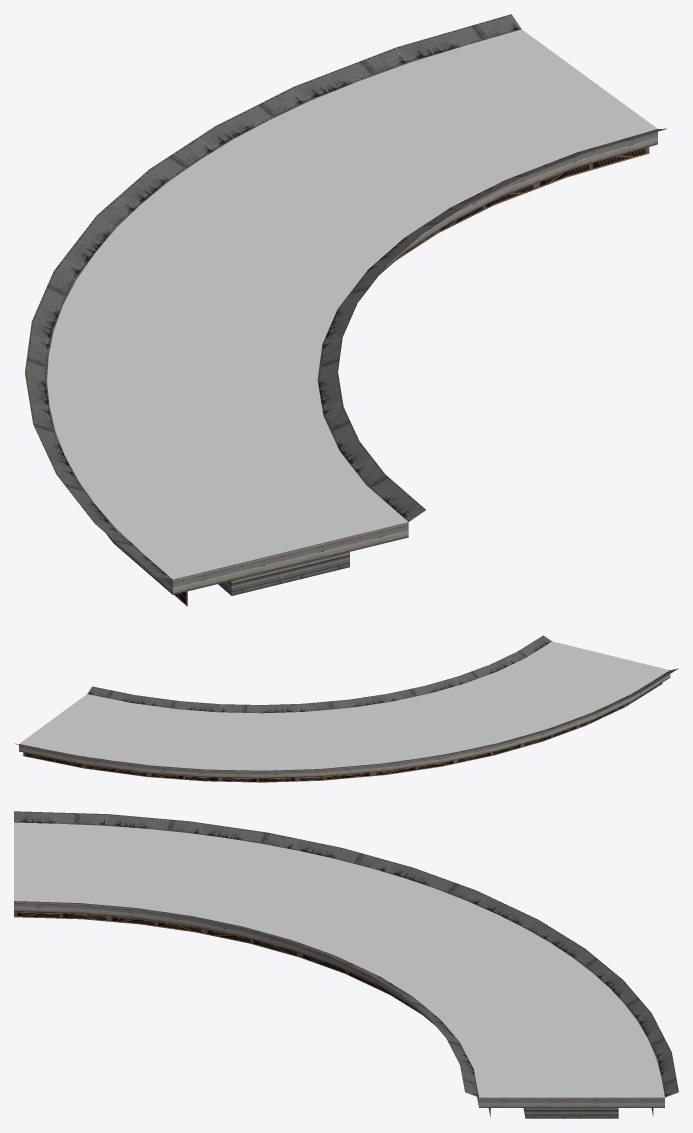
The model's file is Bend2x2.fbx.
3 renders of one model, top to bottom at view 1: azimuth 30°, elevation 25°; view 2: azimuth 150°, elevation 25°; view 3: azimuth 270°, elevation 25°, orthographic. The views are drawn at different scales.
Parts seen in each view (by area): view 1: Empty_Mesh; view 2: Empty_Mesh; view 3: Empty_Mesh.
Boxes of the visible parts, box(x1,y1,x2,y2) form: Empty_Mesh: box(25, 14, 667, 606); Empty_Mesh: box(14, 635, 678, 782); Empty_Mesh: box(14, 811, 678, 1118).
Bounding box in the file's own units: 57.2 × 2.5 × 57.2.
